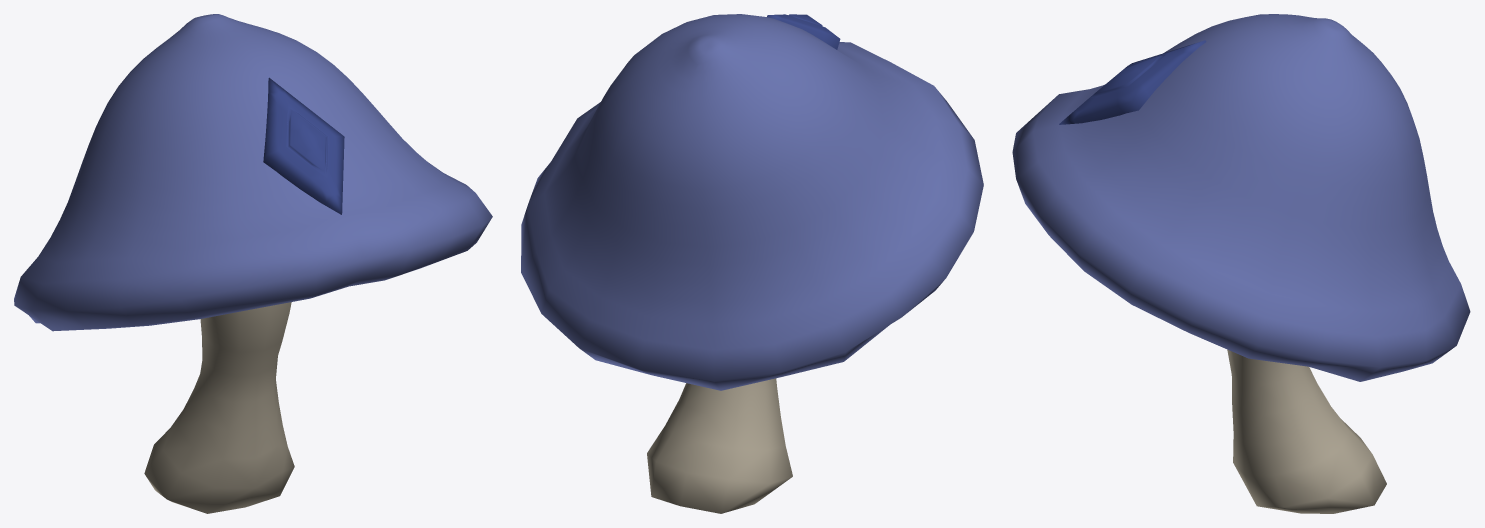
The model's file is SM_WeaveableGlowshroom.fbx.
3 renders of one model, left to right at view 1: azimuth 30°, elevation 25°; view 2: azimuth 150°, elevation 25°; view 3: azimuth 270°, elevation 25°, orthographic. The views are drawn at different scales.
Visible parts, largest first — view 1: lampshroom_low; view 2: lampshroom_low; view 3: lampshroom_low.
Boxes of the visible parts, left/top/right/bottom form: lampshroom_low: left=14, top=14, right=492, bottom=513; lampshroom_low: left=521, top=14, right=983, bottom=513; lampshroom_low: left=1012, top=14, right=1470, bottom=513.
Size of the model in its own units: 2.03 by 2.14 by 1.9.
